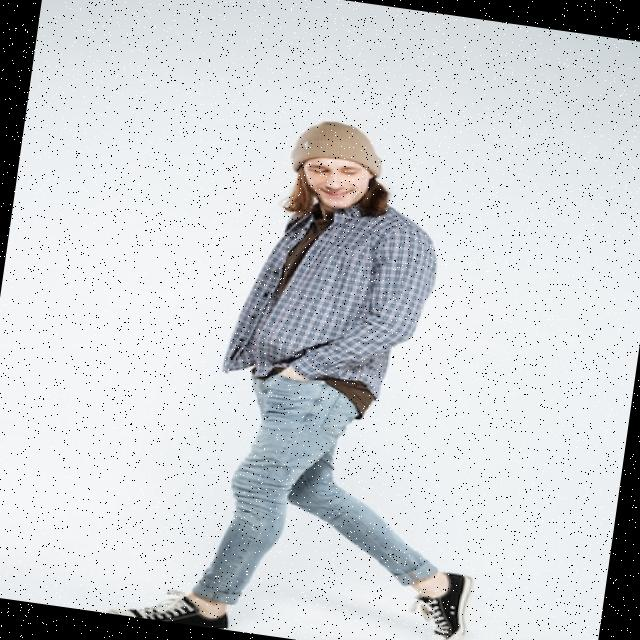Person: (106, 100, 537, 640)
